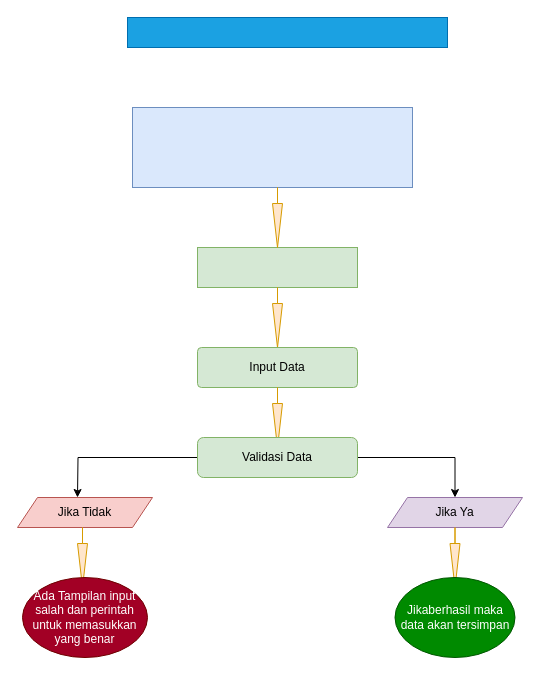
Some shapes in this 540 by 675 pixel diagram are drawn without their labels. The shapes that lost their labels are listed below. From the top down, each one's centre as x and y in pixels, then its label:
At point 287,32: "Form Data Baru".
At point 272,147: "Mulai".
At point 277,267: "Tampilan halaman".
